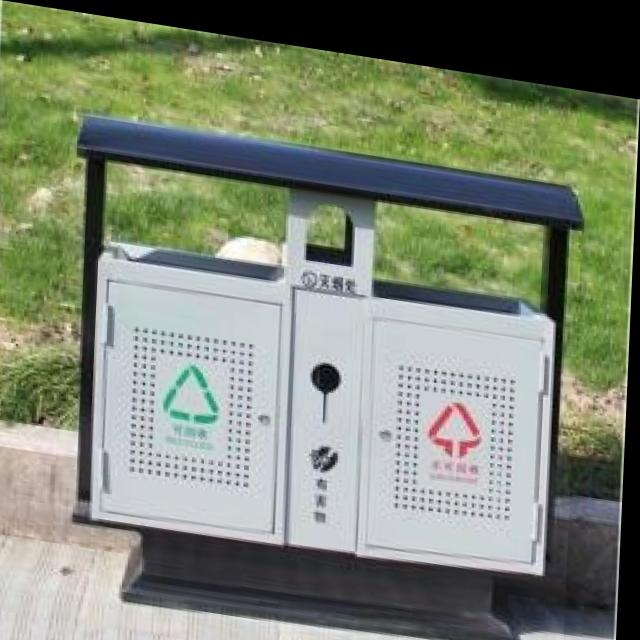garbage_bin: (58, 102, 585, 640)
